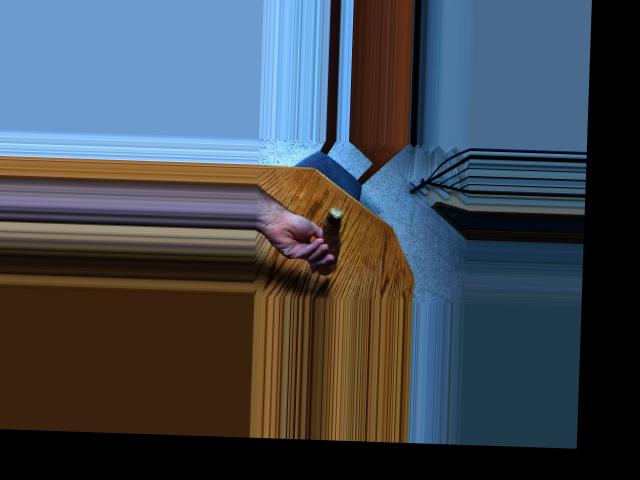sweet_potato: (312, 205, 345, 274)
